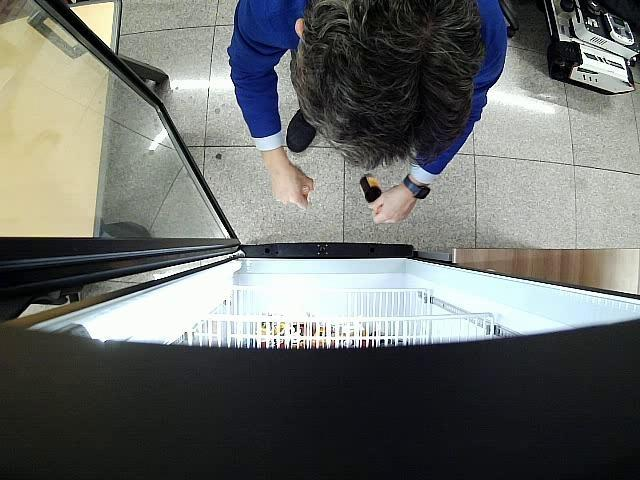17_vita500: (359, 176, 382, 202), (302, 185, 310, 196)
